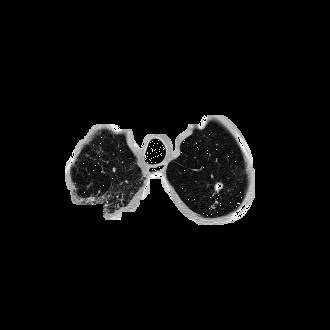PN: (212, 181, 224, 193)
